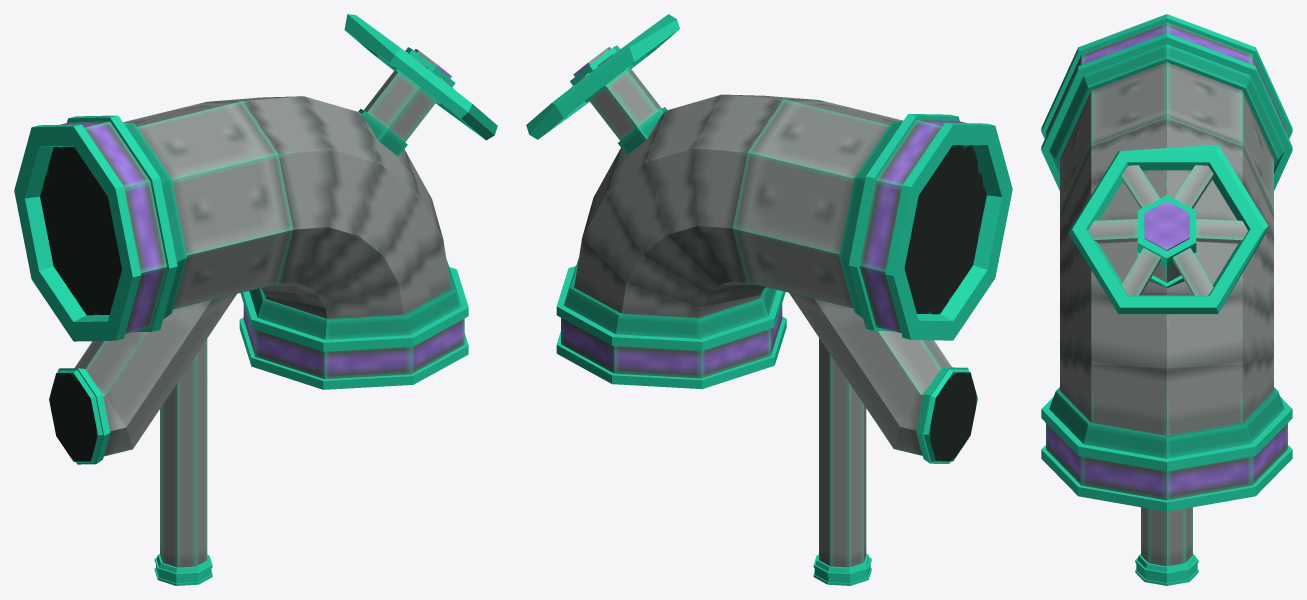
Rendered from pipe_yorick.fbx.
3 views of the same model, side by side, from view 1: azimuth 30°, elevation 25°; view 2: azimuth 150°, elevation 25°; view 3: azimuth 270°, elevation 25° (orthographic). The views are drawn at different scales.
Visible parts, largest first — view 1: Object004; view 2: Object004; view 3: Object004.
Boxes of the visible parts, <box> form: Object004: <box>14,14,497,585</box>; Object004: <box>526,14,1012,585</box>; Object004: <box>1041,14,1292,585</box>.
Size of the model in its own units: 146 by 172 by 74.5.
1 material, 1 textured.
